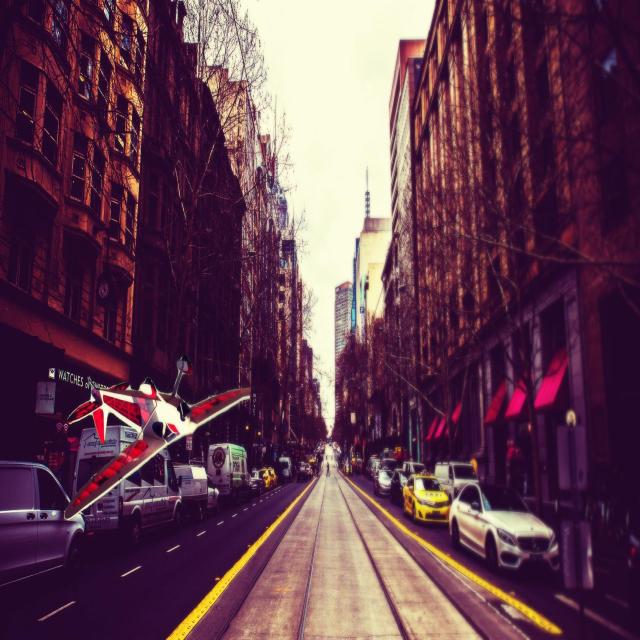airplane: (64, 353, 252, 520)
